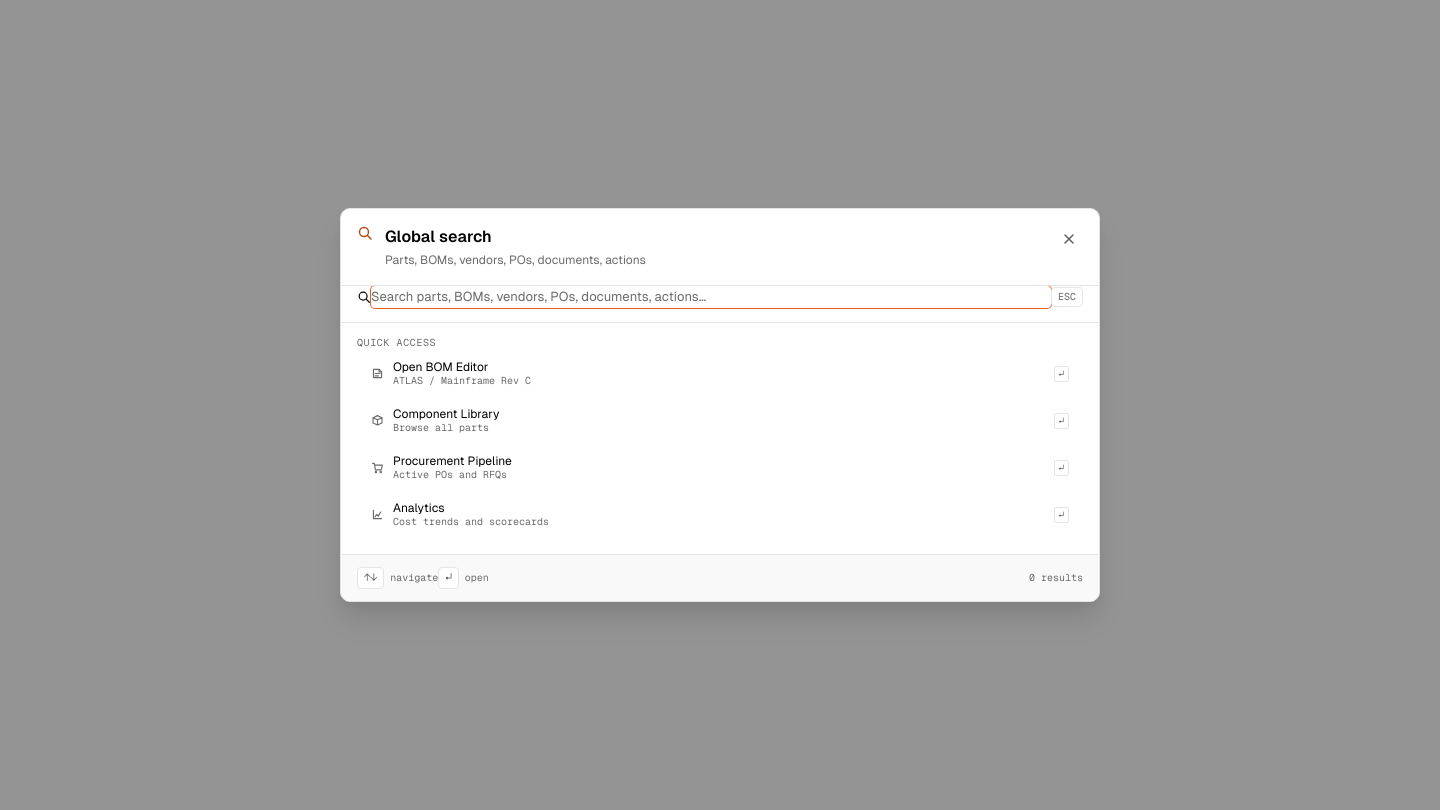
it: GlobalSearchModal › groups results by entity type with a count
Step 1. Type "zz" into the dropdown → point(711, 297), box [371,286,1051,308]
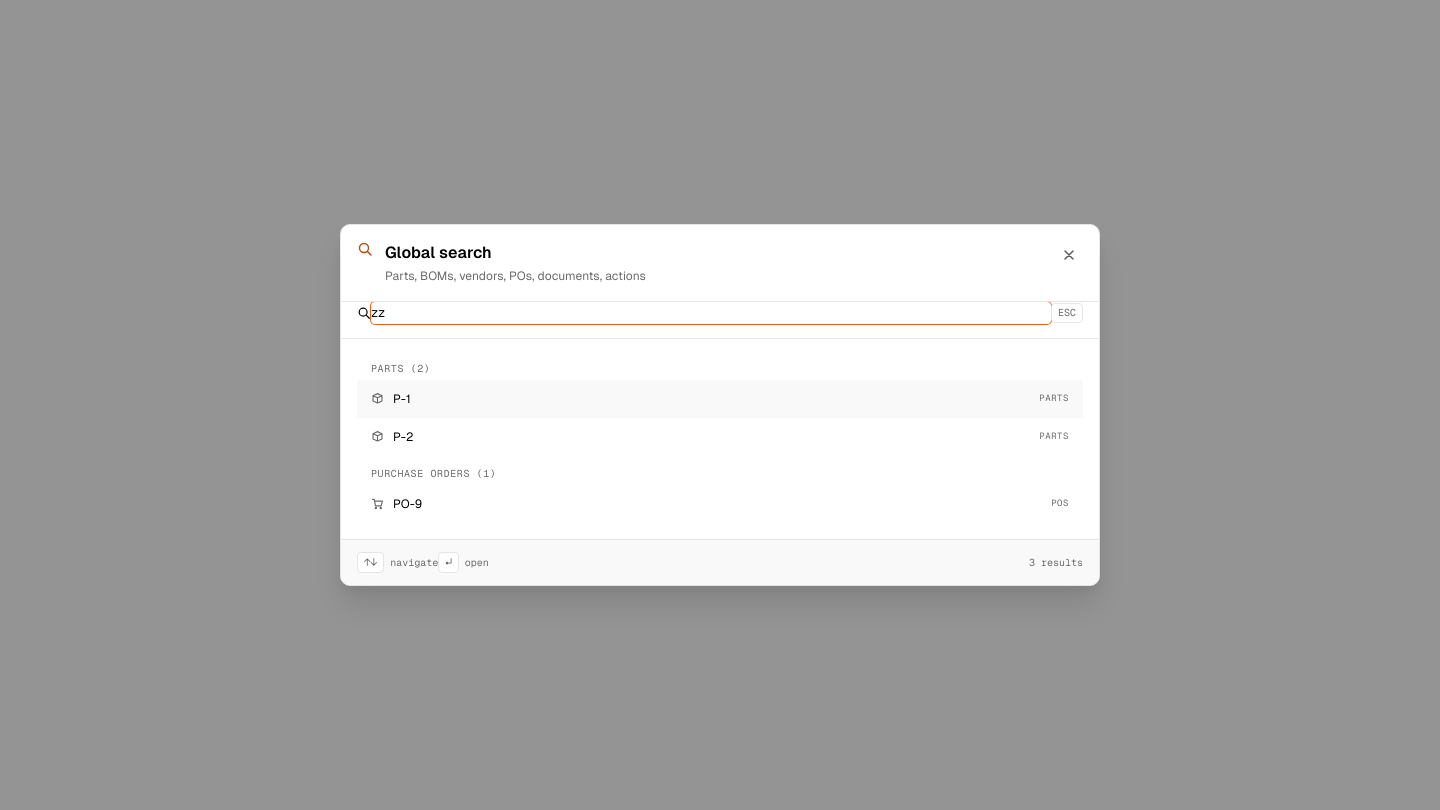
Expected: the text "Parts (2)" is shown, [371,363,430,374]
Expected: the text "Purchase orders (1)" is shown, [371,468,496,479]
